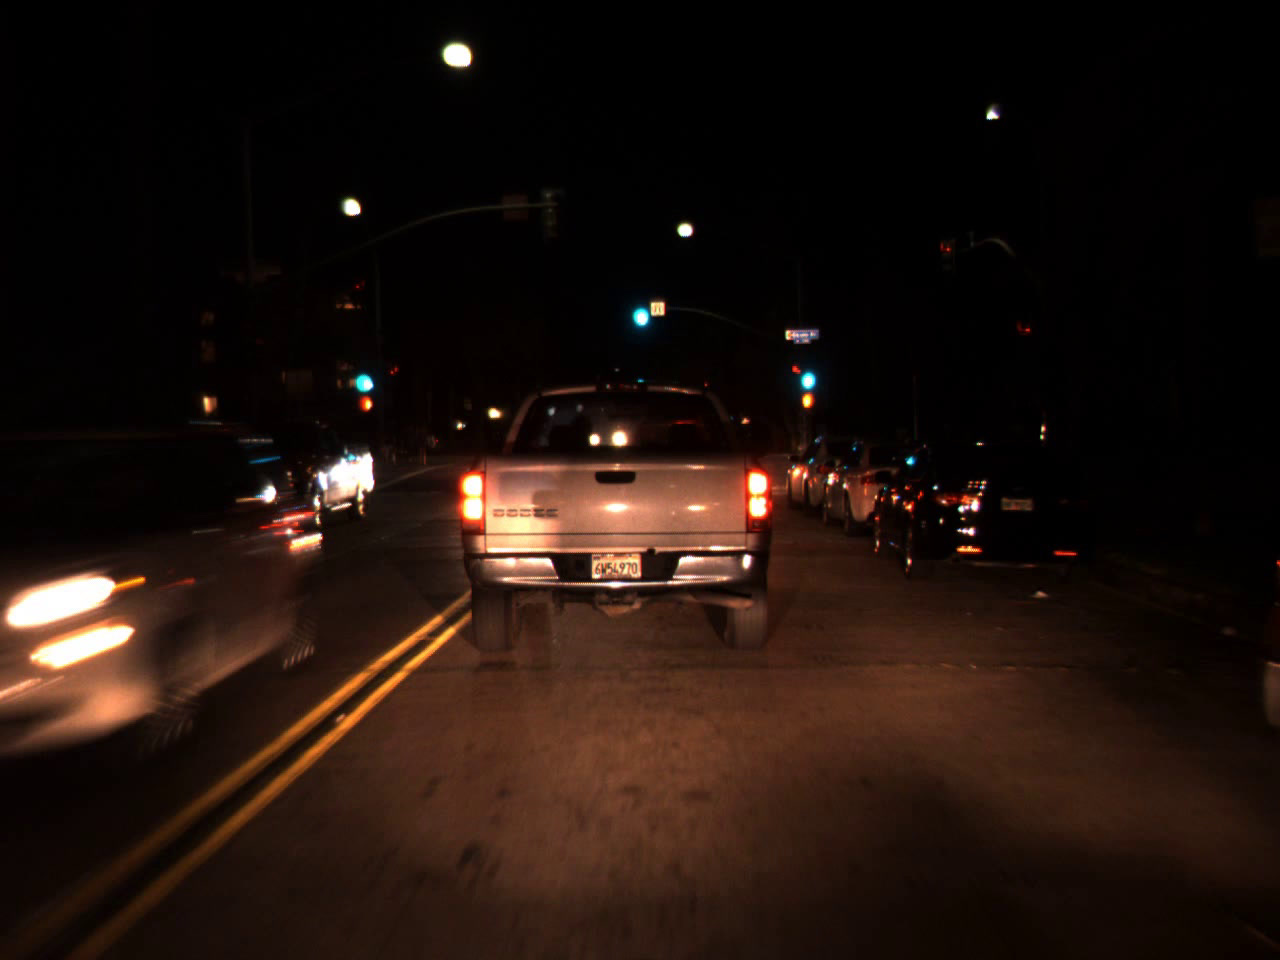go: (627, 285, 652, 333), (350, 353, 375, 398), (796, 350, 817, 395)
